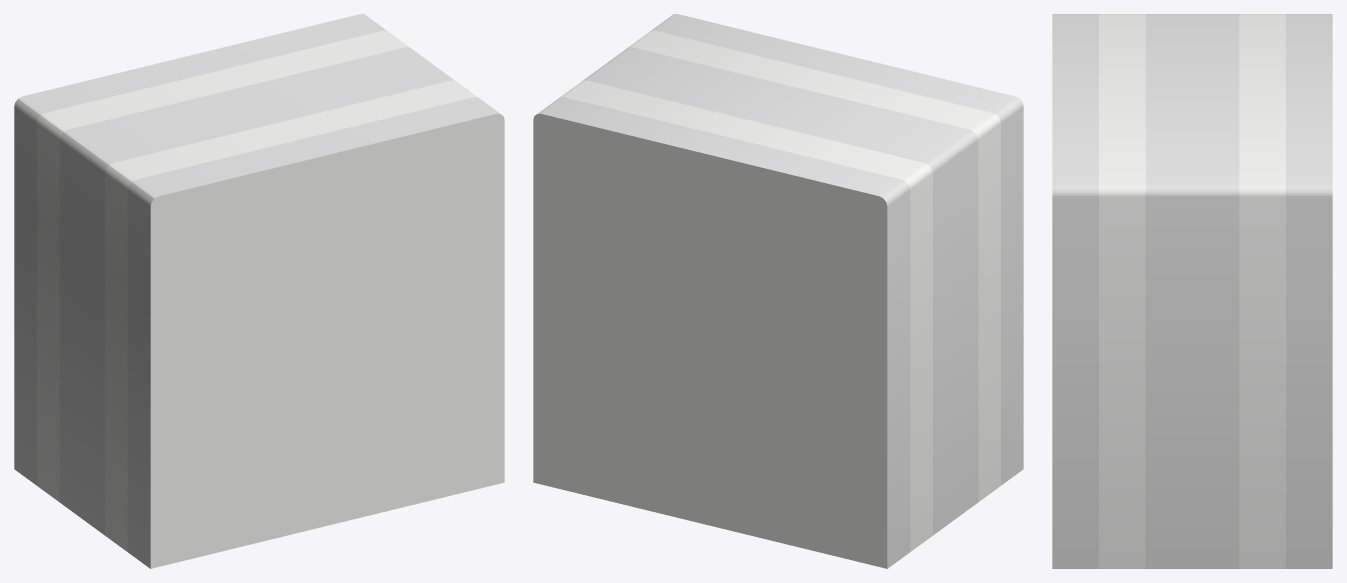
The model's file is SM_Road.fbx.
The picture shows the model from 3 angles, left to right: view 1: azimuth 30°, elevation 25°; view 2: azimuth 150°, elevation 25°; view 3: azimuth 270°, elevation 25°; orthographic projection. The views are drawn at different scales.
Visible parts, largest first — view 1: SM_Road; view 2: SM_Road; view 3: SM_Road.
Part boxes in pixels (left/top/right/bottom): SM_Road: left=14, top=14, right=504, bottom=568; SM_Road: left=533, top=14, right=1023, bottom=568; SM_Road: left=1052, top=14, right=1332, bottom=568.
Size of the model in its own units: 6 by 4 by 6.
